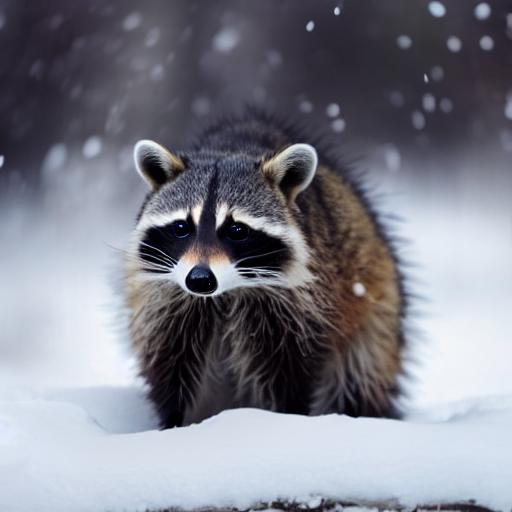raccoon: (103, 101, 428, 422)
